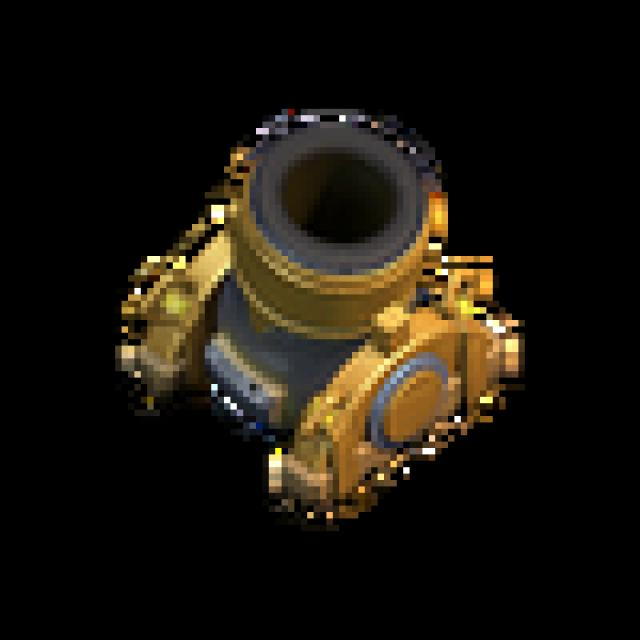mortar: (118, 90, 530, 532)
